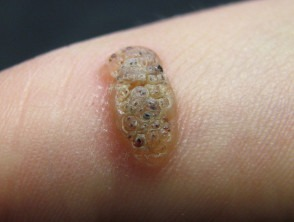Warts: (98, 39, 193, 171)
